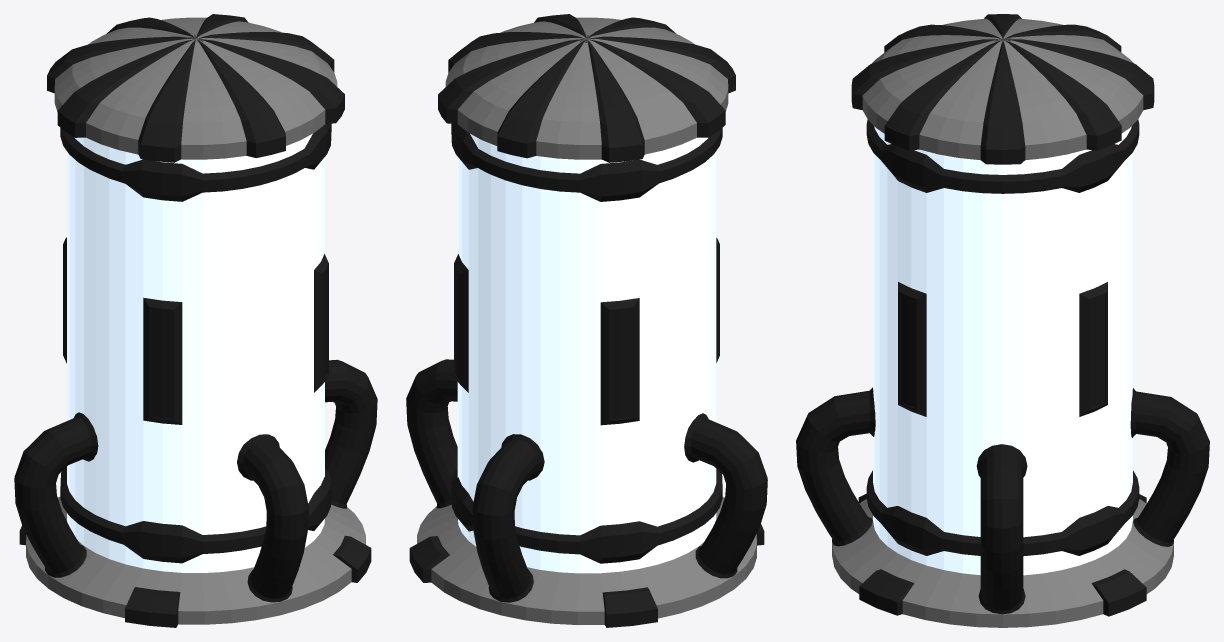
File: incubator.fbx
The picture shows the model from 3 angles, left to right: view 1: azimuth 30°, elevation 25°; view 2: azimuth 150°, elevation 25°; view 3: azimuth 270°, elevation 25°; orthographic projection.
Visible parts, largest first — view 1: Cylinder, NurbsCurve.002; view 2: Cylinder, NurbsCurve.002; view 3: Cylinder, NurbsCurve.002.
Part boxes in pixels (<box>): Cylinder: <box>19,14,371,627</box>; NurbsCurve.002: <box>14,359,377,602</box>; Cylinder: <box>409,14,764,627</box>; NurbsCurve.002: <box>406,359,767,602</box>; Cylinder: <box>832,14,1173,627</box>; NurbsCurve.002: <box>796,387,1209,614</box>.
Size of the model in its own units: 319 by 439 by 319.
